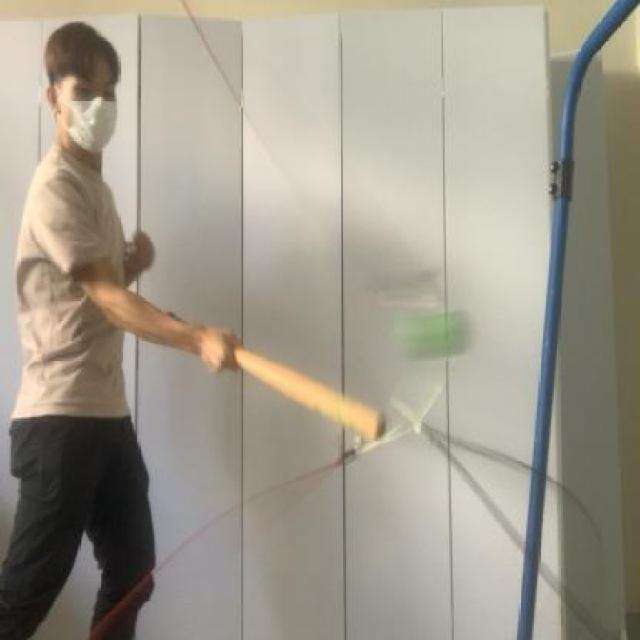baseball: (378, 290, 488, 384)
